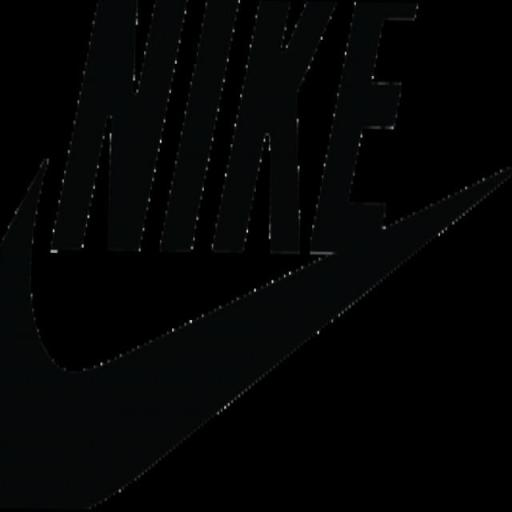Nike: (0, 186, 470, 512), (52, 0, 429, 258)
